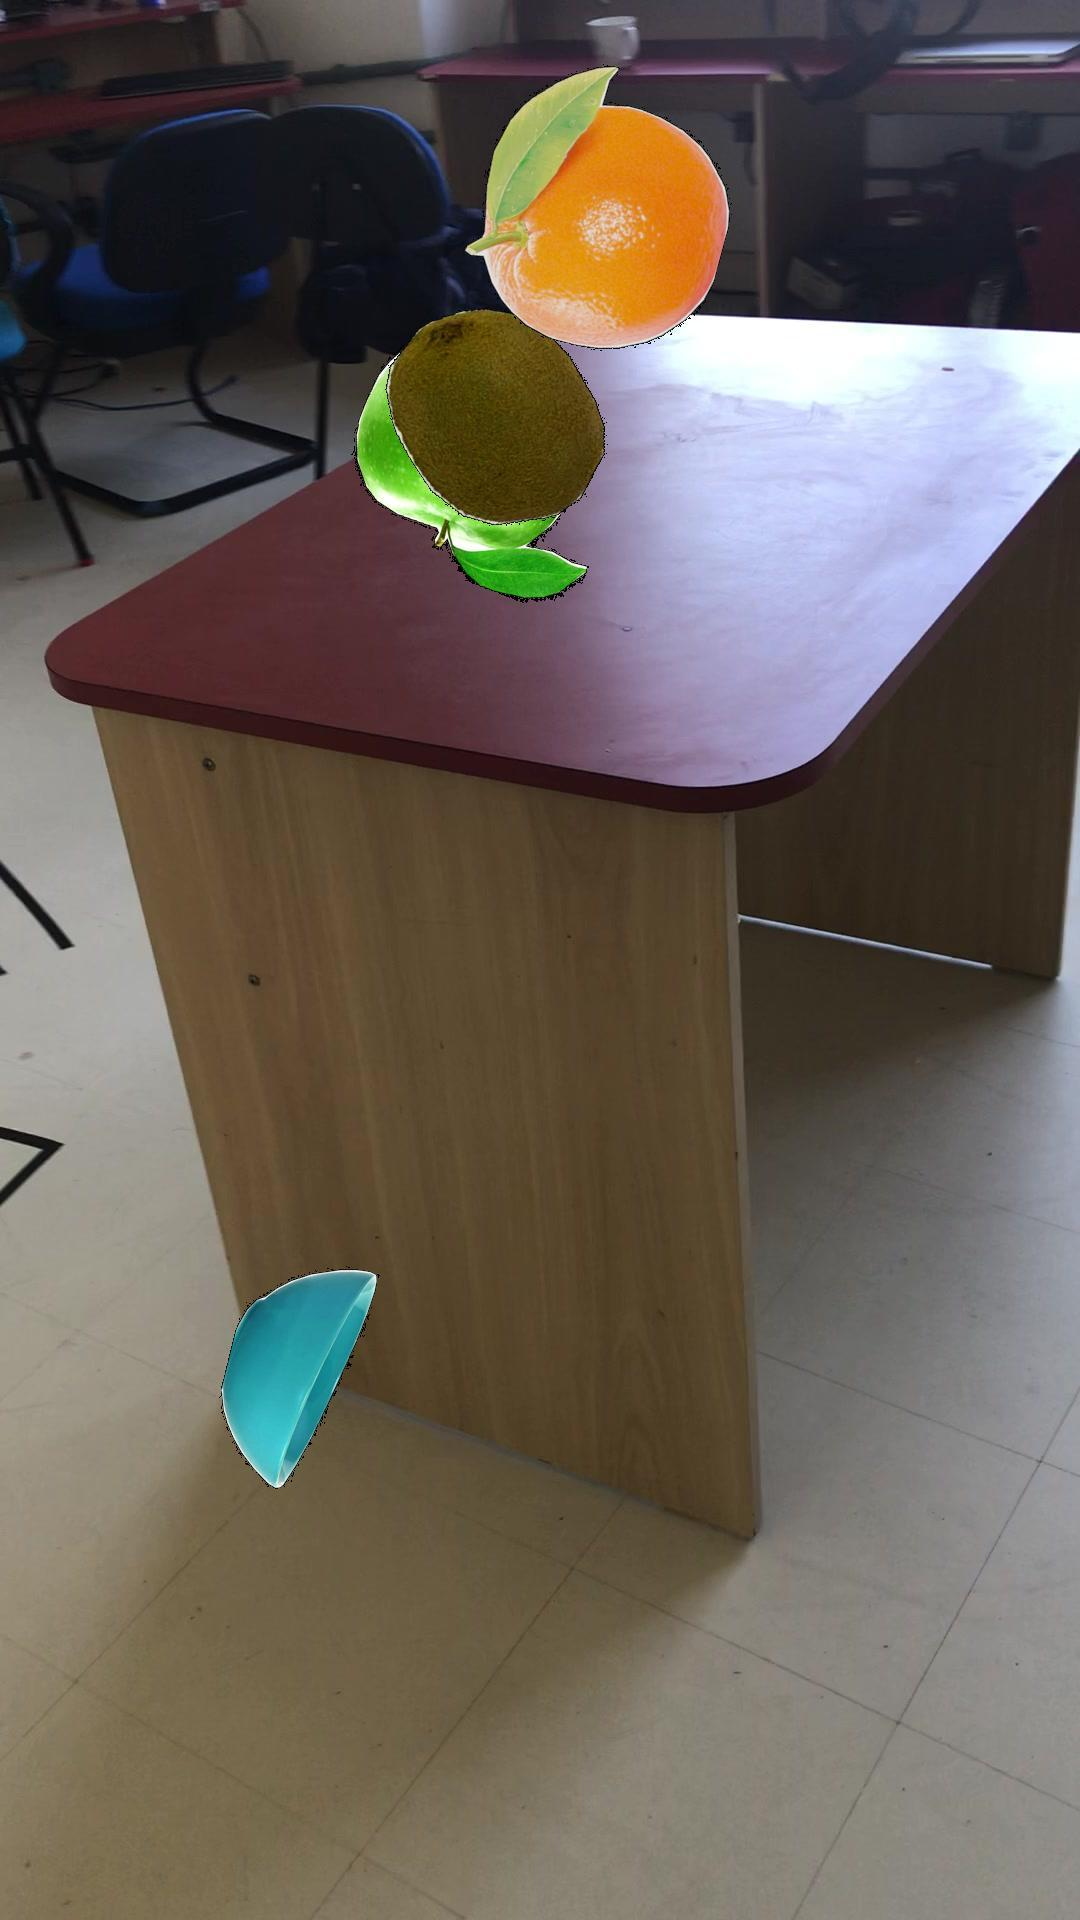bowl: (219, 1267, 376, 1487)
green apple: (352, 351, 588, 601)
kiwi: (384, 306, 604, 524)
orange: (463, 63, 728, 348)
